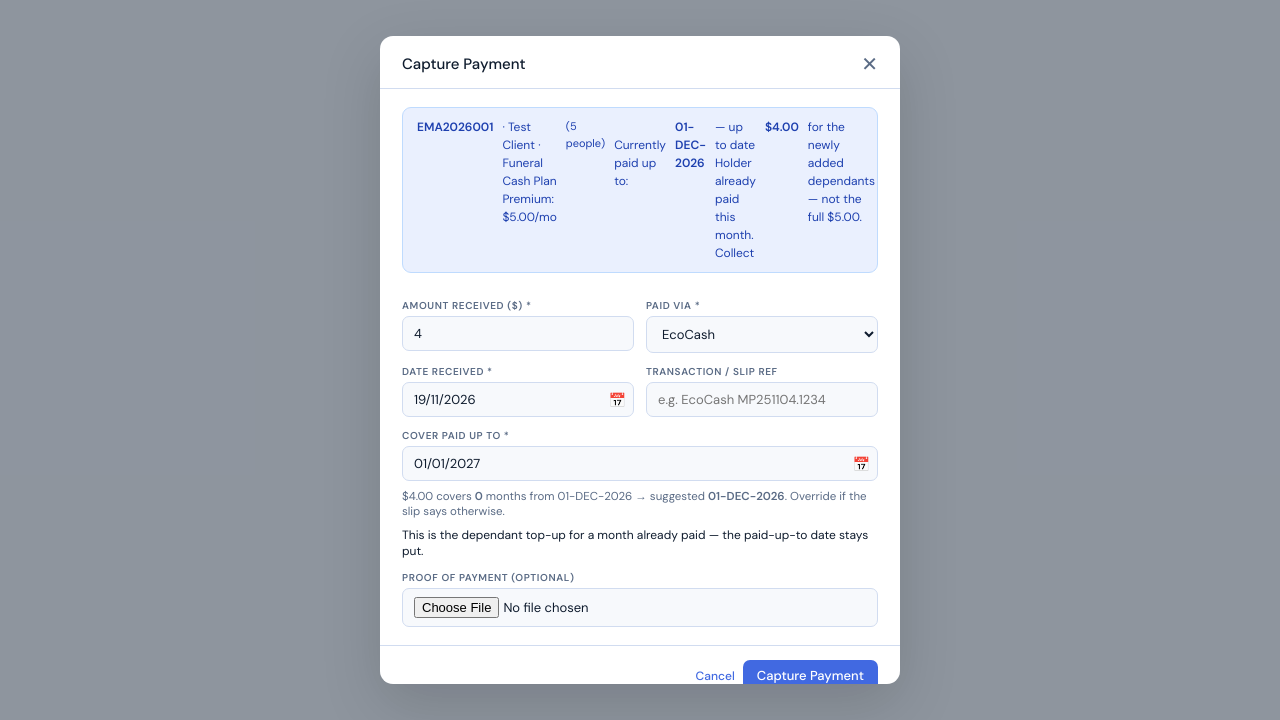
Test: CapturePaymentModal mid-cycle dependant upgrade › defaults to the dependant top-up and keeps paid-until put on a $6 capture
Expected: the text "newly added dependants" is shown, [808,119,875,225]
Expected: the text "$4.00" is shown, [765,118,799,136]
Replace the text in the number field with placeholder "0.00" with "6": [518, 334] box [402,316,634,351]
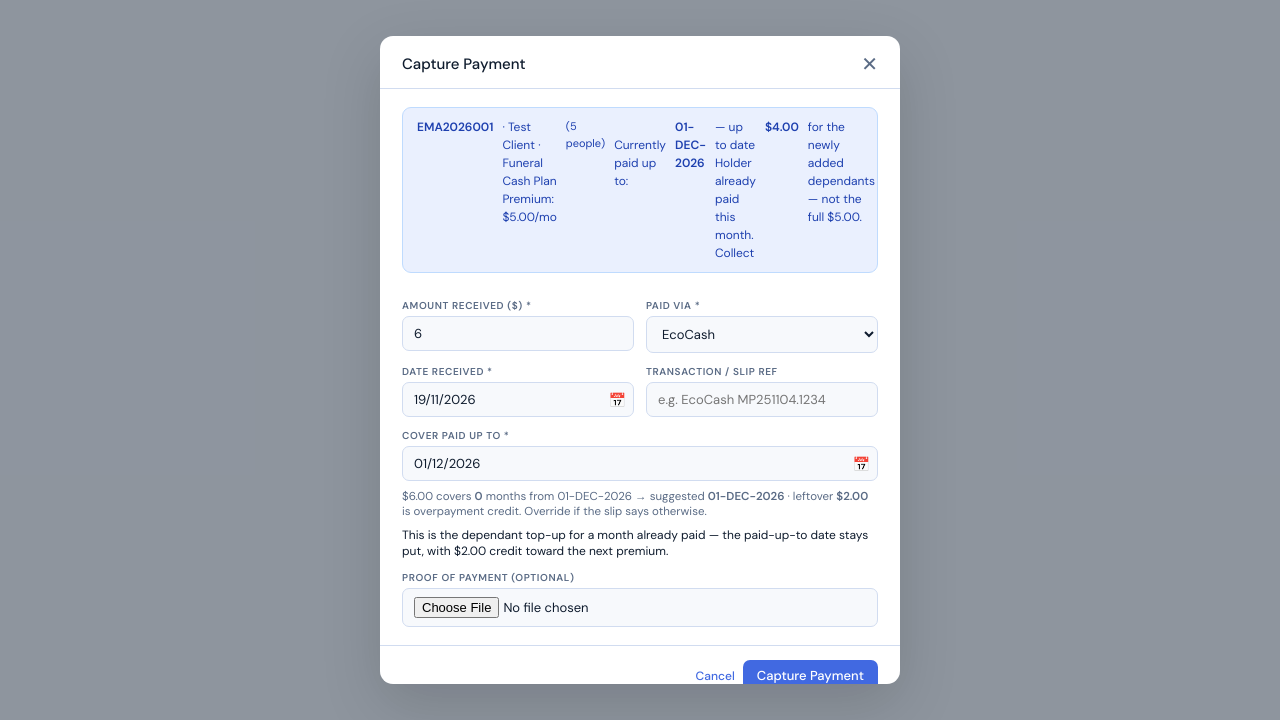
Expected: the text "paid-up-to date stays put" is shown, [402,527,868,559]
Now the text "leftover" is shown, box [784,489,836,504]
Now the text "$2.00" is shown, box [836,489,868,504]
